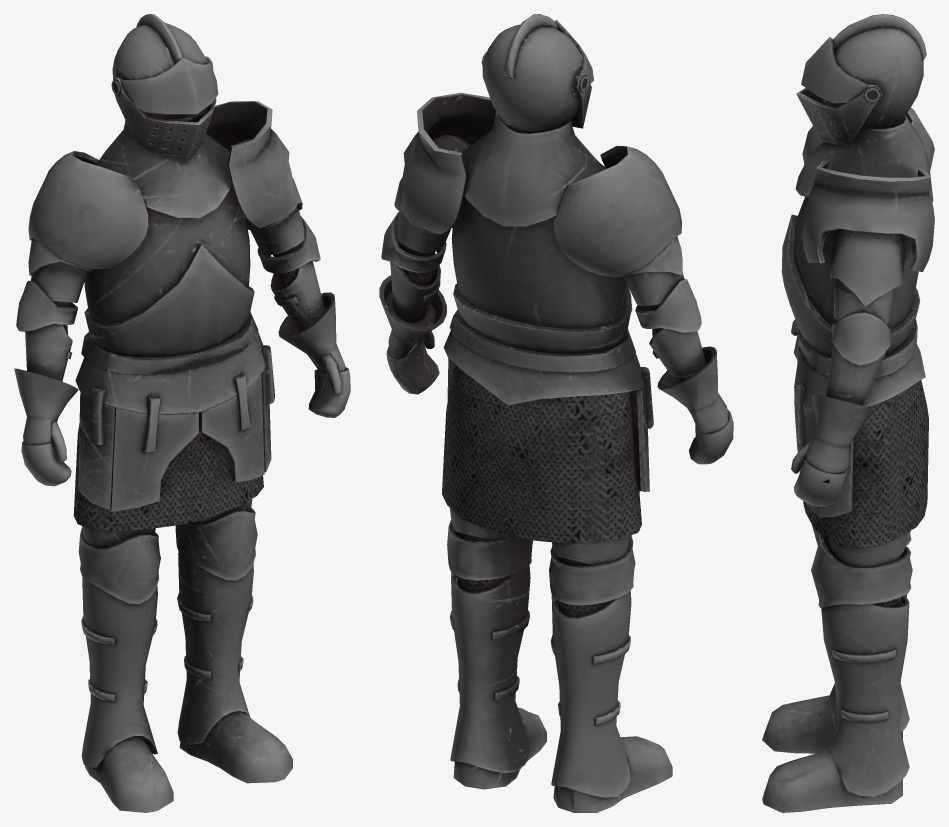
The model's file is armor.glb.
3 renders of one model, left to right at view 1: azimuth 30°, elevation 25°; view 2: azimuth 150°, elevation 25°; view 3: azimuth 270°, elevation 25°, orthographic. The views are drawn at different scales.
Visible parts, largest first — view 1: Object_4; view 2: Object_4; view 3: Object_4.
Part boxes in pixels (box(x1,y1,x2,y2)): Object_4: box(14, 14, 350, 812); Object_4: box(379, 14, 733, 812); Object_4: box(762, 14, 934, 812).
Bounding box in the file's own units: 2.02 × 4.41 × 0.9146.
Materials: 1 (1 with a texture image).
